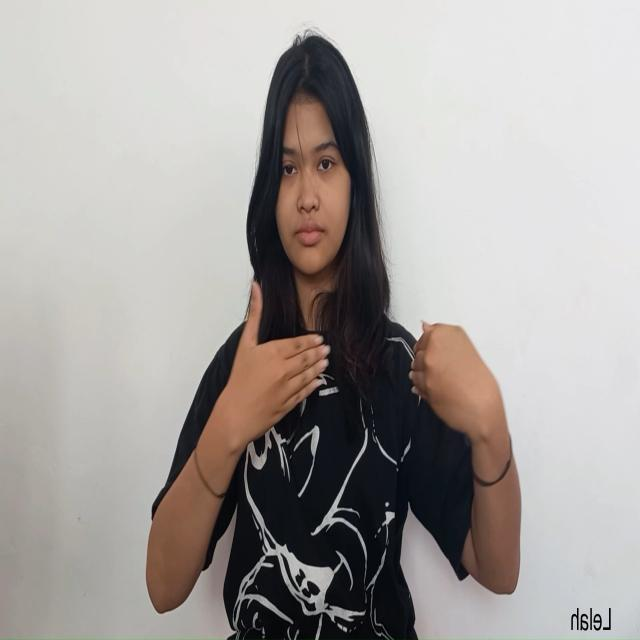Lelah -BISINDO-: (218, 278, 498, 456)
